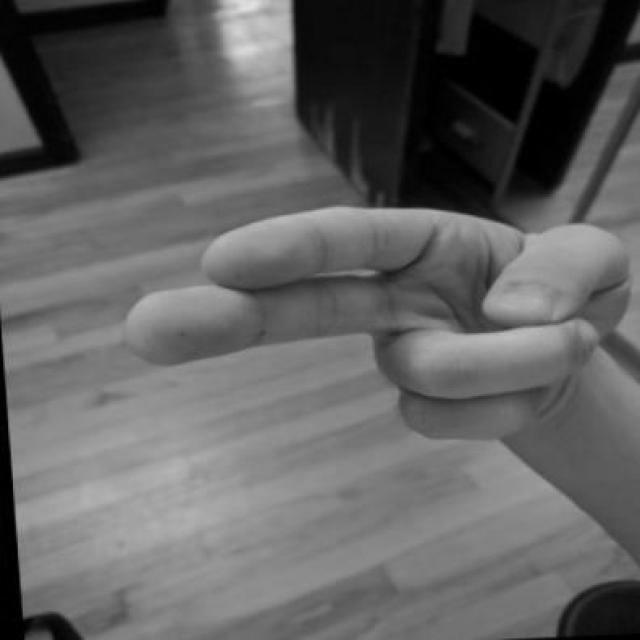H: (102, 181, 638, 467)
